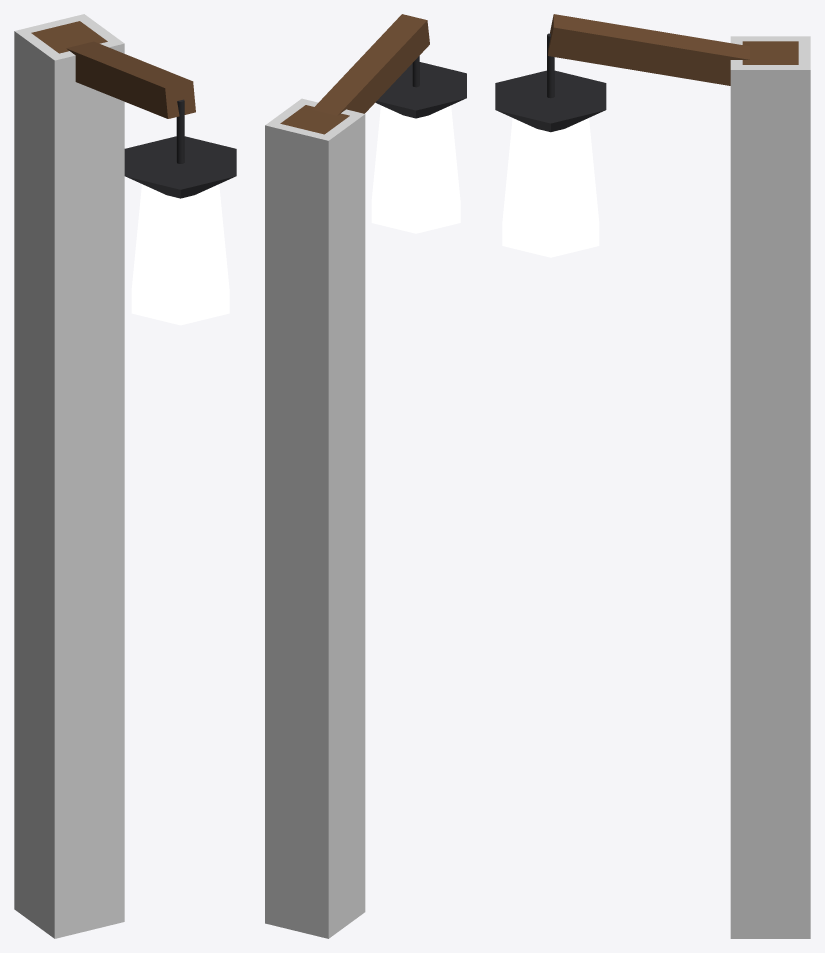
File: farolillo_copa.glb
The picture shows the model from 3 angles, left to right: view 1: azimuth 30°, elevation 25°; view 2: azimuth 150°, elevation 25°; view 3: azimuth 270°, elevation 25°; orthographic projection. The views are drawn at different scales.
Parts seen in each view (by area): view 1: COL_0, farolillo_copa_Malla; view 2: COL_0, farolillo_copa_Malla; view 3: COL_0, farolillo_copa_Malla.
Part boxes in pixels (x1,y1,x2,y2): COL_0: (14, 14, 124, 938); farolillo_copa_Malla: (31, 21, 236, 325); COL_0: (265, 98, 365, 938); farolillo_copa_Malla: (280, 14, 466, 233); COL_0: (730, 36, 810, 938); farolillo_copa_Malla: (495, 14, 798, 257).
Size of the model in its own units: 0.32 by 2.49 by 0.7886.
